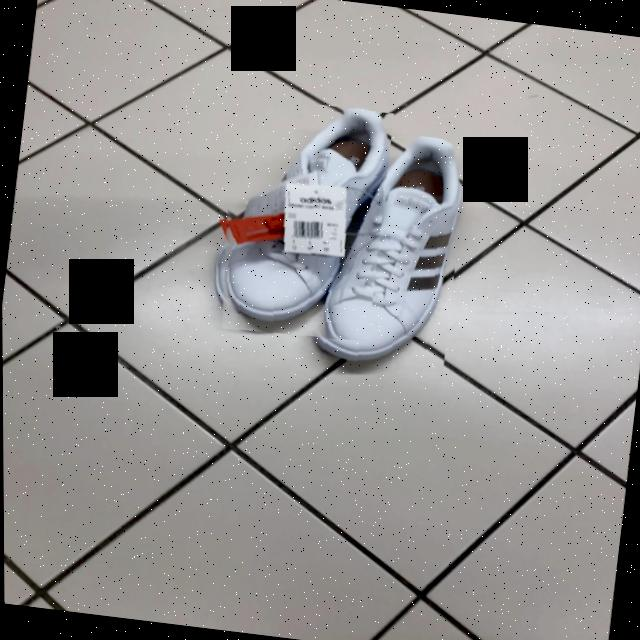shoe: (222, 108, 389, 333), (309, 136, 463, 366)
